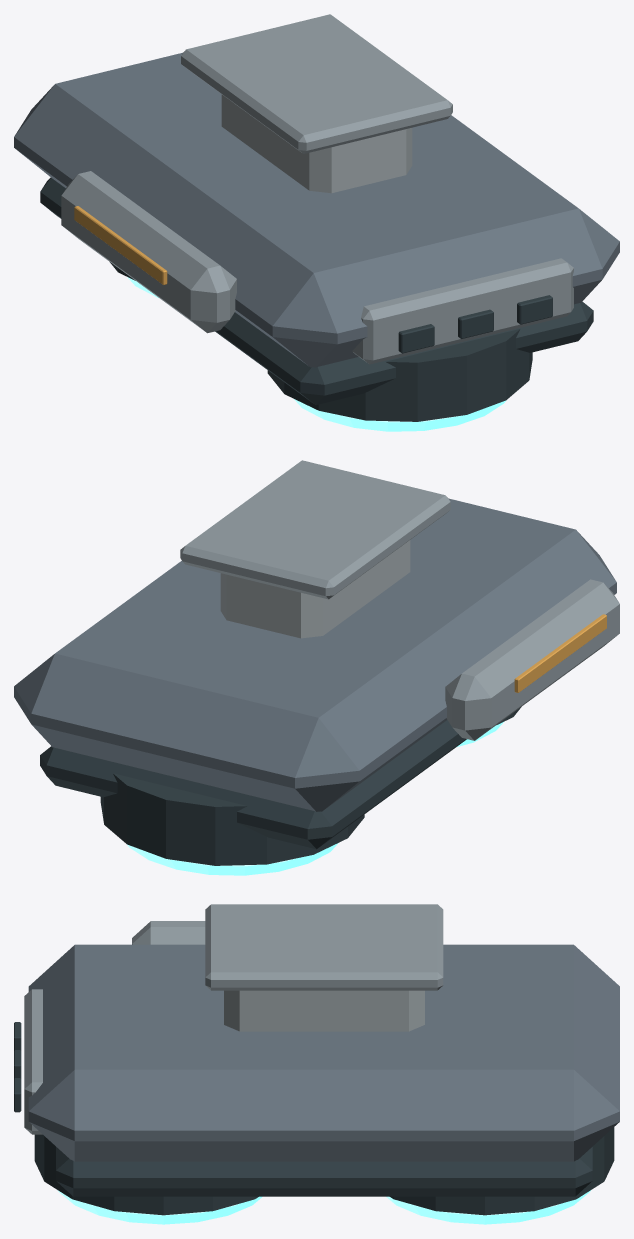
Rendered from CGS_HoverPad_L.fbx.
The picture shows the model from 3 angles, top to bottom: view 1: azimuth 30°, elevation 25°; view 2: azimuth 150°, elevation 25°; view 3: azimuth 270°, elevation 25°; orthographic projection. The views are drawn at different scales.
Parts seen in each view (by area): view 1: CGS_HoverPad_L; view 2: CGS_HoverPad_L; view 3: CGS_HoverPad_L.
Part boxes in pixels (x1,y1,x2,y2): CGS_HoverPad_L: [14, 14, 619, 431]; CGS_HoverPad_L: [14, 460, 619, 875]; CGS_HoverPad_L: [14, 904, 619, 1224].
Size of the model in its own units: 154 by 92.23 by 211.
